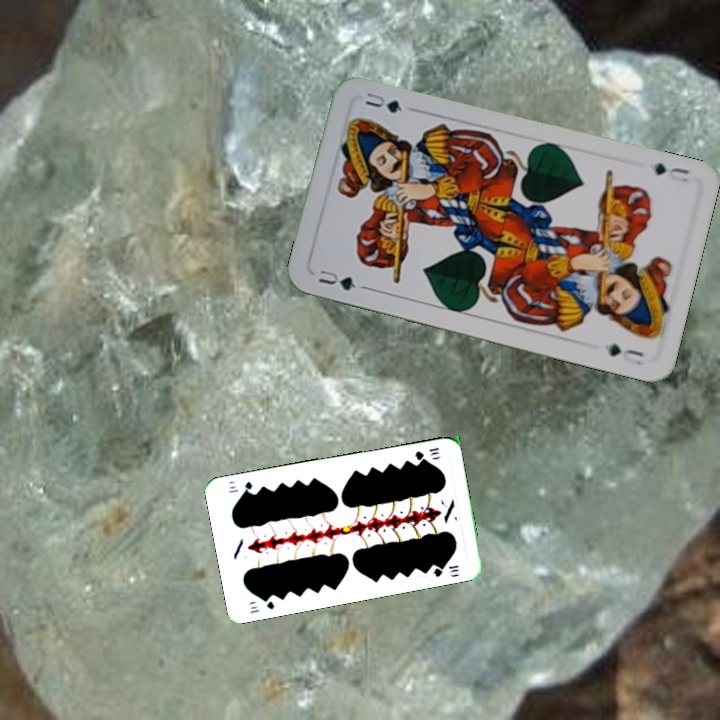G10: (245, 593, 277, 616), (411, 443, 444, 463)
GU: (314, 266, 360, 293), (650, 159, 693, 185)
